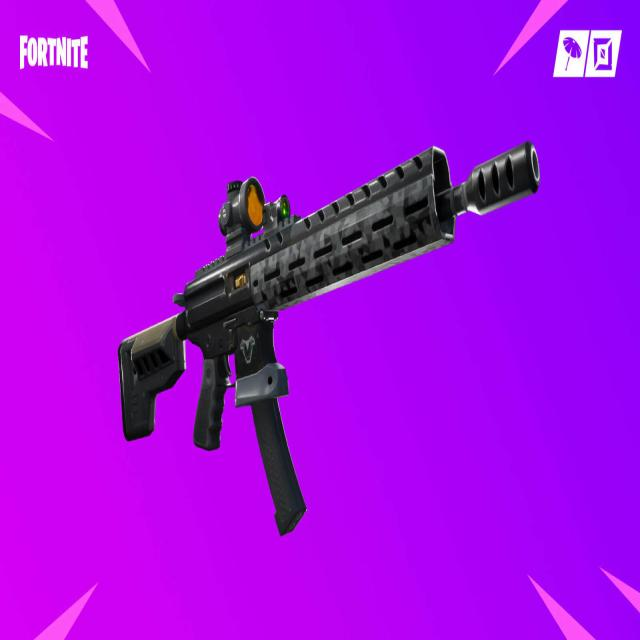Rifle: (117, 143, 542, 537)
